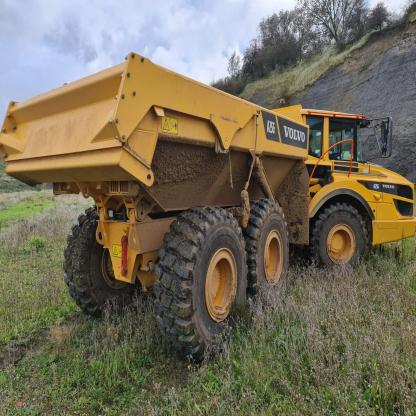dump_truck: (5, 49, 416, 360)
